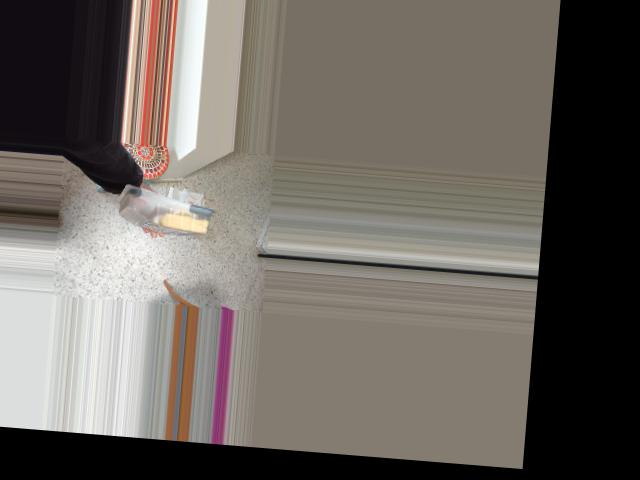cheese: (112, 180, 214, 238)
